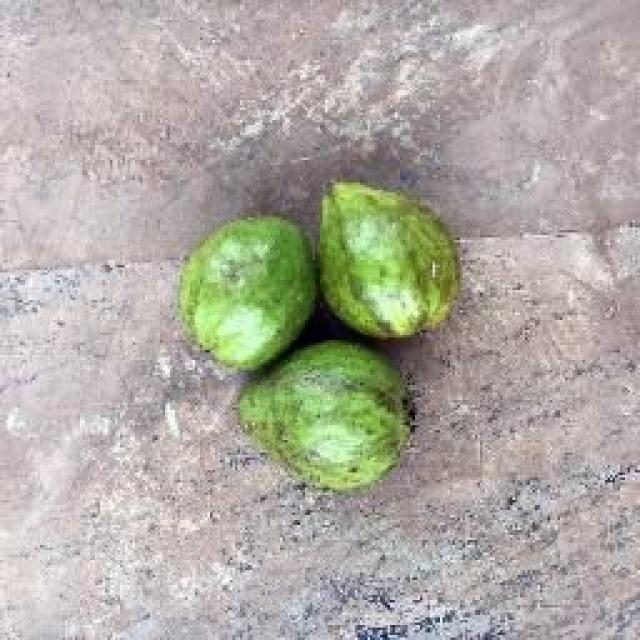Good_Guava: (238, 340, 412, 492), (318, 180, 462, 342), (178, 215, 318, 372)
